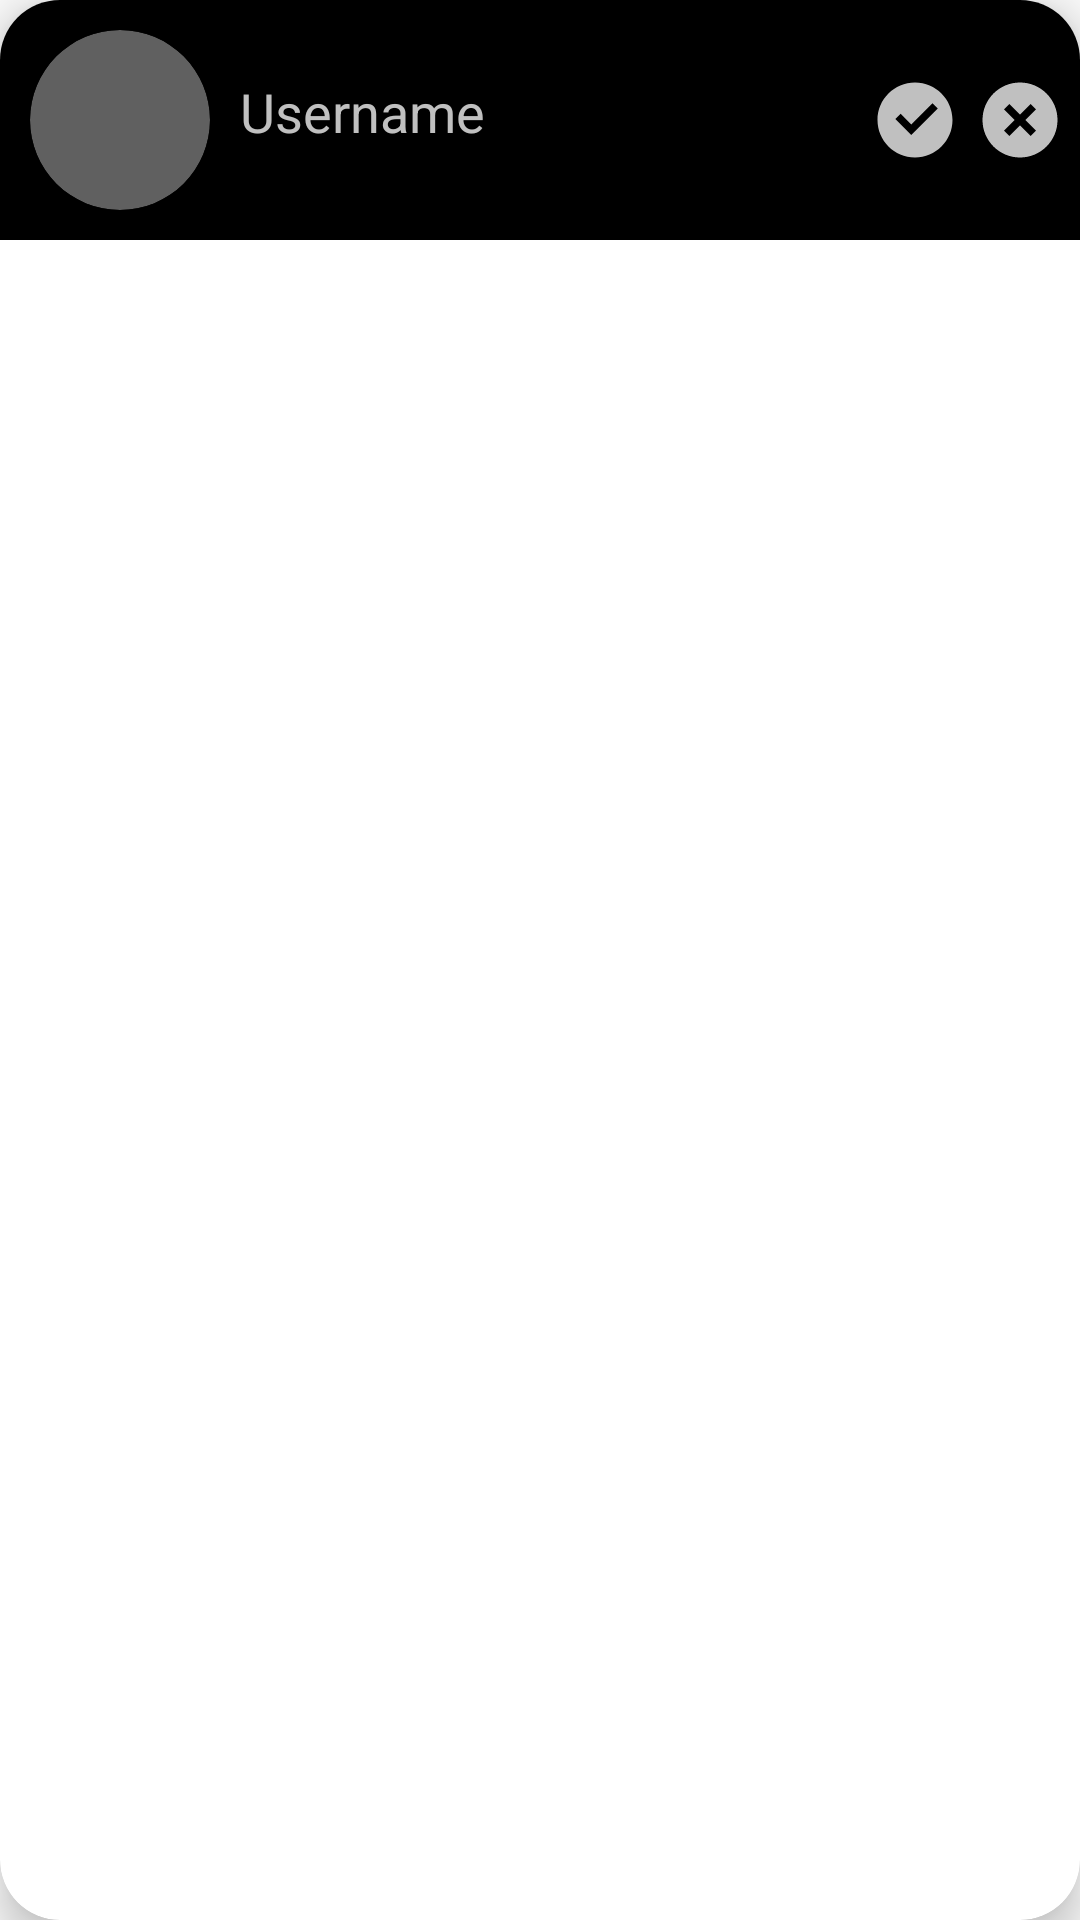

Named icons in this screenshot (1080 × 1920) and their centers, point (x, y):
accept: point (915, 120)
close: point (1020, 120)
